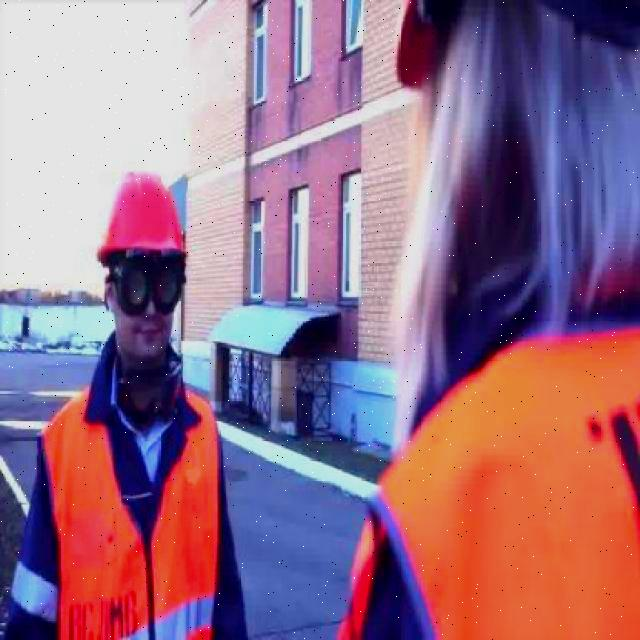Helmet: (96, 170, 187, 270)
Mask: (332, 318, 638, 638), (42, 383, 218, 637)
